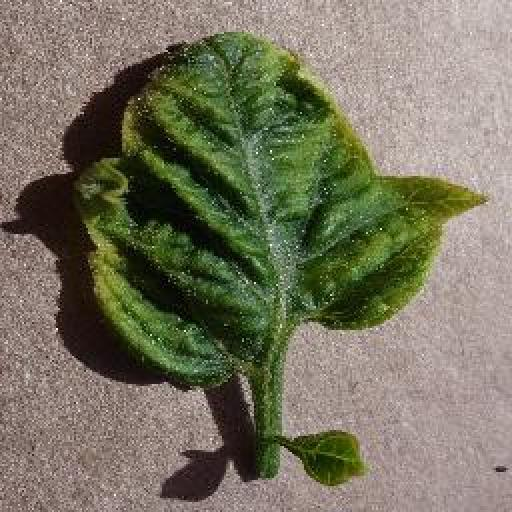Yellow Leaf Curl Virus: (73, 30, 491, 394)
